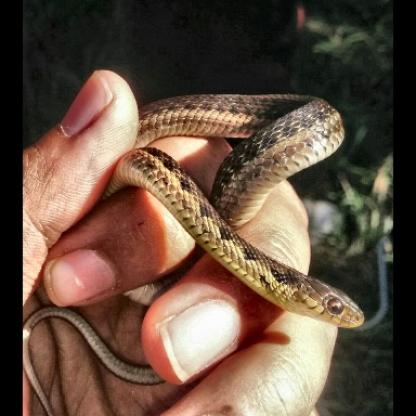Snake: (91, 79, 381, 343)
